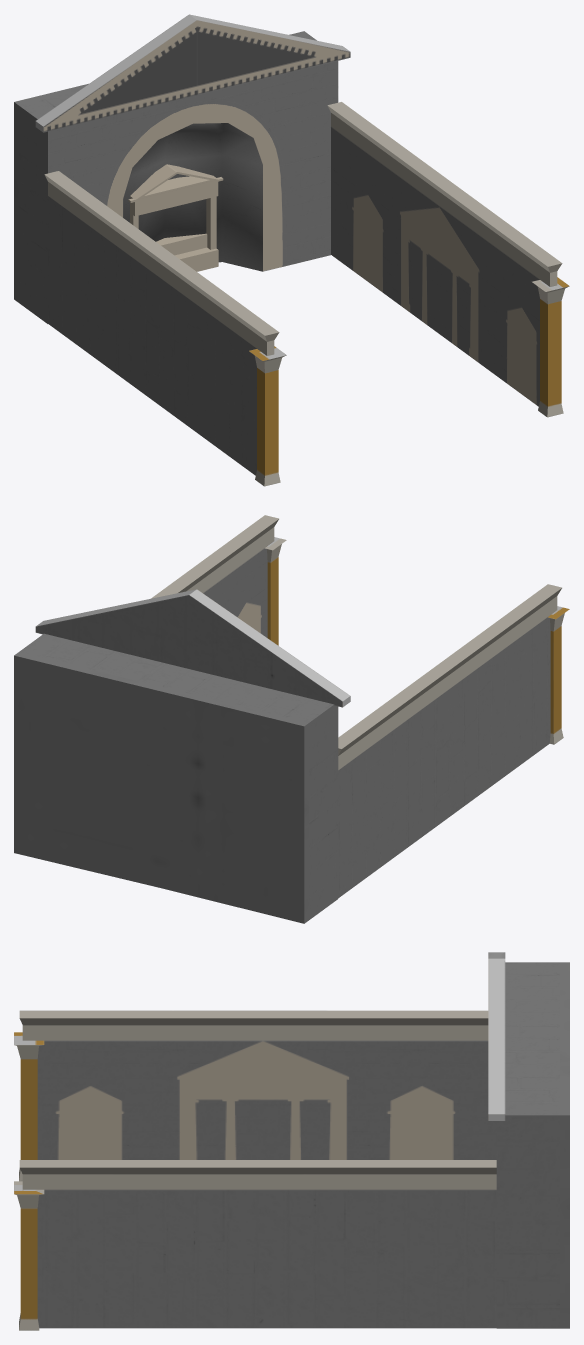
The model's file is Edificio di Eumachia.fbx.
3 views of the same model, one above another, from view 1: azimuth 30°, elevation 25°; view 2: azimuth 150°, elevation 25°; view 3: azimuth 270°, elevation 25° (orthographic). The views are drawn at different scales.
Visible parts, largest first — view 1: Cube.002; view 2: Cube.002; view 3: Cube.002.
Boxes of the visible parts, x1,y1,x2,y2 form: Cube.002: (14,14,569,486); Cube.002: (14,515,569,923); Cube.002: (14,952,569,1330).
Size of the model in its own units: 4524 by 3820 by 6557.
